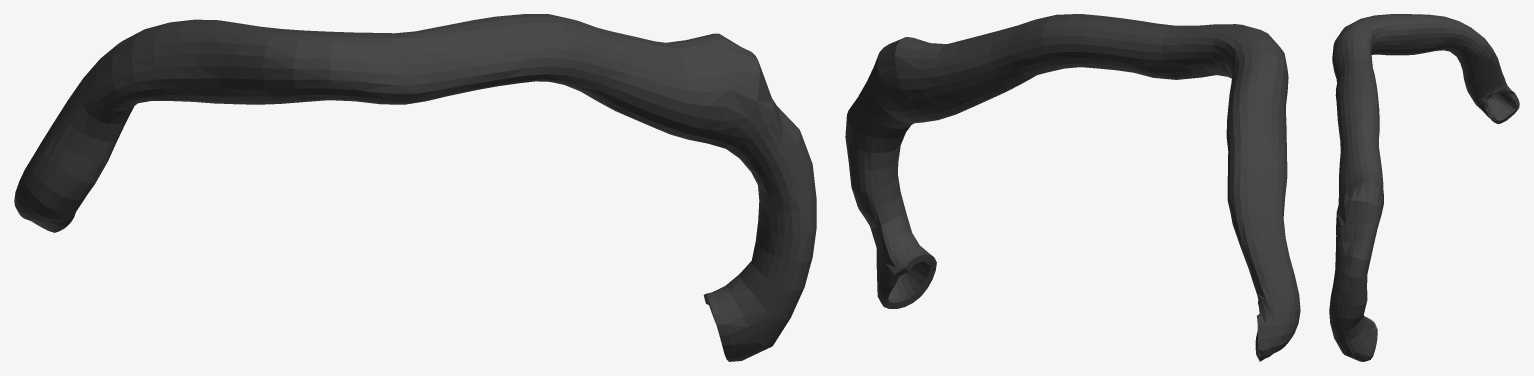
The model's file is duodenum_LP.glb.
3 renders of one model, left to right at view 1: azimuth 30°, elevation 25°; view 2: azimuth 150°, elevation 25°; view 3: azimuth 270°, elevation 25°, orthographic. The views are drawn at different scales.
Parts seen in each view (by area): view 1: duodenum_LP; view 2: duodenum_LP; view 3: duodenum_LP.
Part boxes in pixels (bbox=[...]): duodenum_LP: bbox=[14, 14, 816, 361]; duodenum_LP: bbox=[845, 14, 1300, 361]; duodenum_LP: bbox=[1329, 14, 1519, 361].
Size of the model in its own units: 3.46 by 2.14 by 1.62.
Materials: 1 (1 with a texture image).
